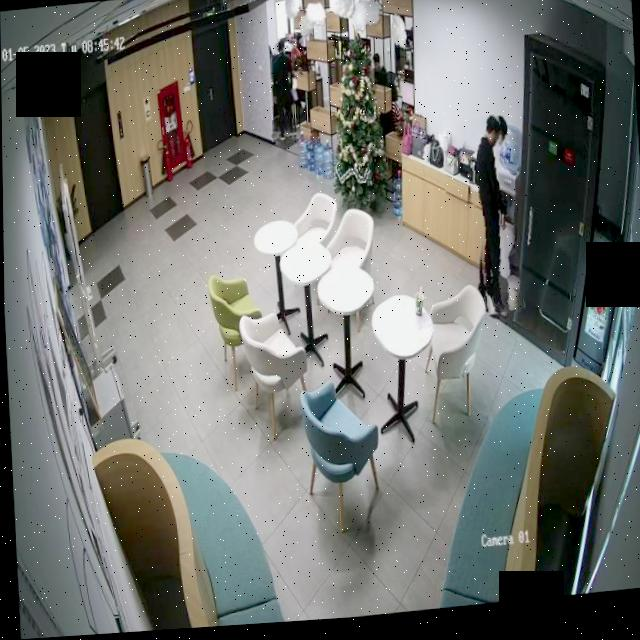person: (464, 118, 520, 322), (269, 42, 299, 146)
